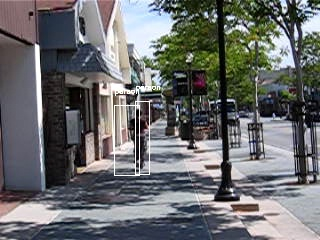person: (130, 110, 149, 171), (129, 110, 148, 171), (131, 110, 150, 171), (130, 109, 149, 170), (130, 111, 149, 172)
target_negative: (93, 106, 222, 185), (201, 76, 254, 153), (47, 57, 75, 176), (268, 219, 315, 238), (111, 226, 309, 227)
